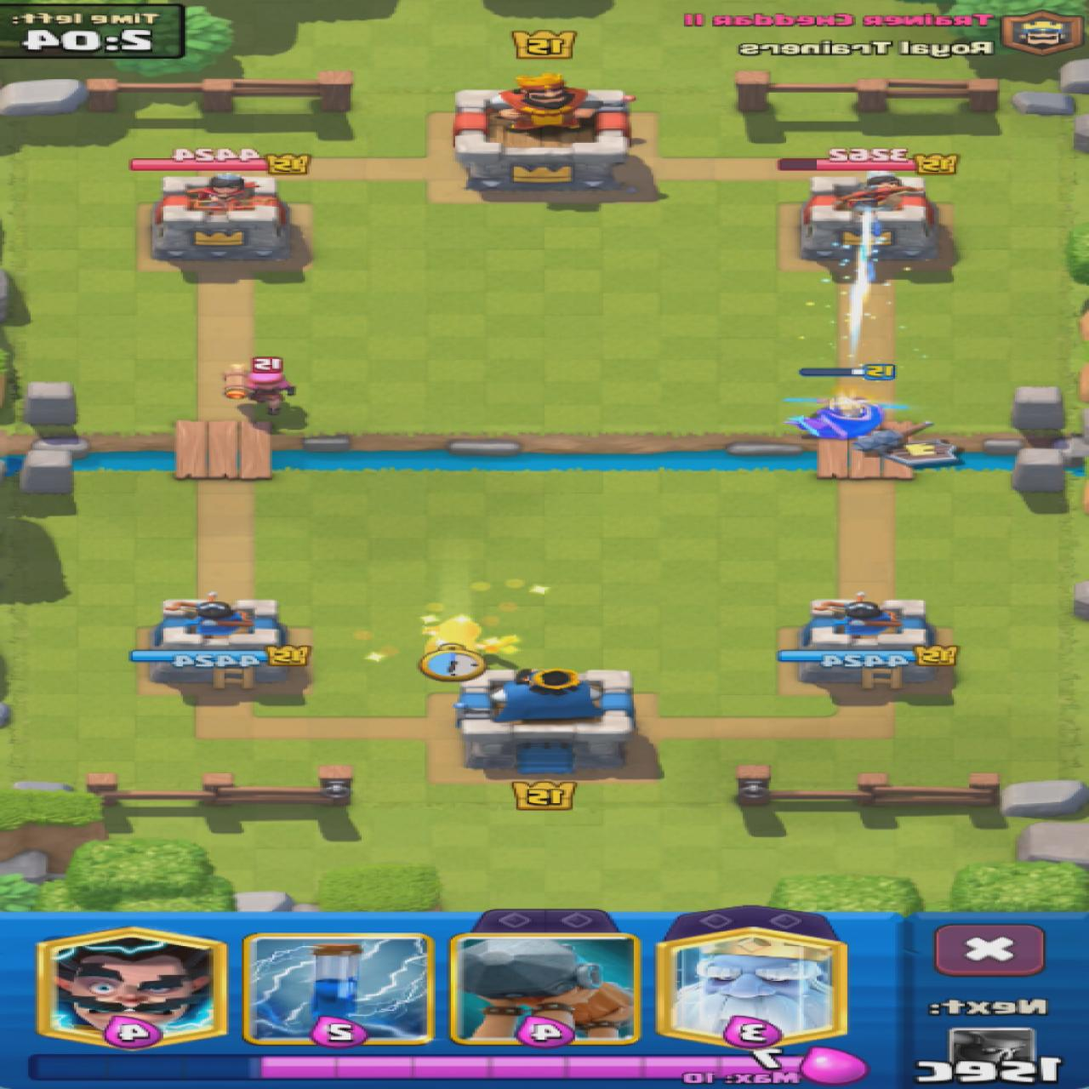Enemy-Firecracker: (219, 363, 298, 417)
Enemy-KingTower: (455, 76, 629, 194)
Enemy-PrincessTower: (152, 174, 292, 262), (802, 175, 941, 259)
